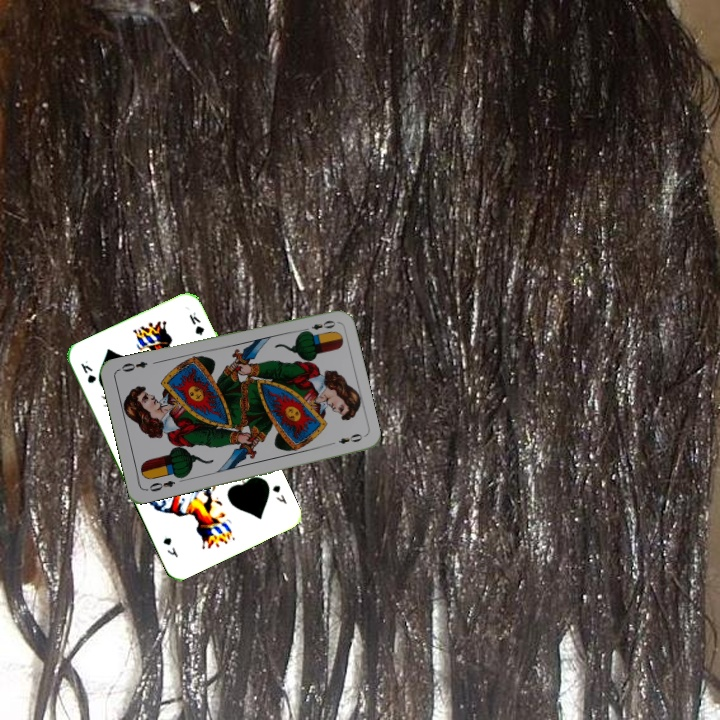EO: (298, 316, 338, 336), (142, 476, 178, 494)
GK: (77, 357, 99, 386), (268, 481, 289, 507)
